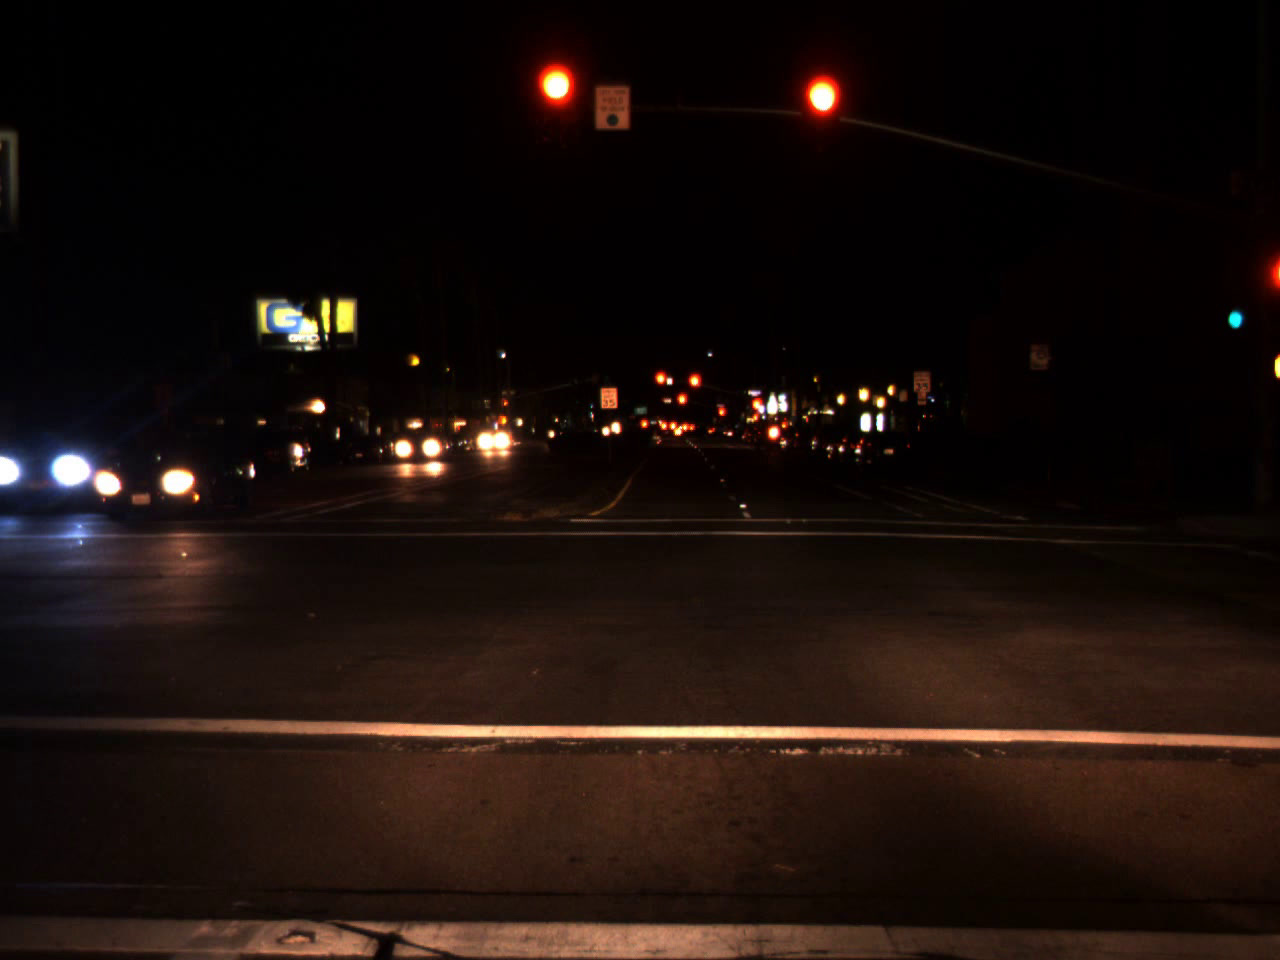stop: (537, 65, 577, 143), (803, 75, 843, 153), (653, 369, 669, 401), (686, 371, 702, 403), (675, 391, 688, 418), (717, 406, 726, 427), (754, 396, 763, 412), (503, 398, 509, 414)
